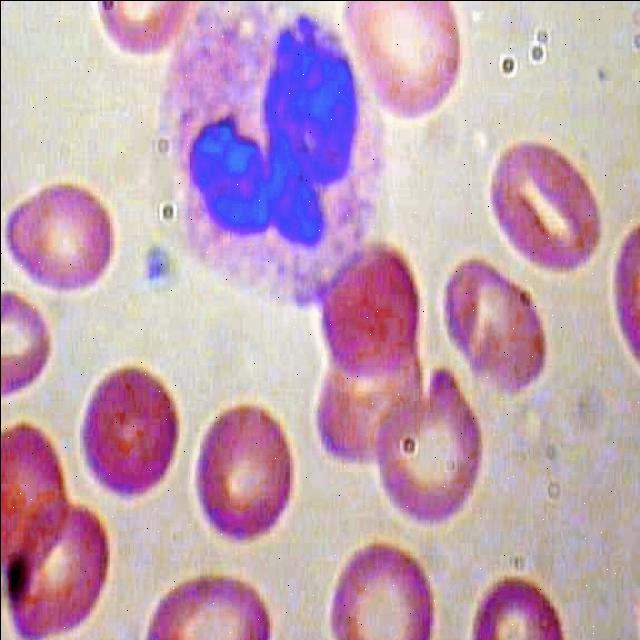RBC: (368, 360, 492, 535), (338, 0, 464, 142), (312, 237, 424, 394), (190, 397, 302, 553), (75, 351, 186, 507), (0, 496, 119, 640), (491, 130, 609, 272), (439, 258, 549, 398), (0, 179, 120, 302), (0, 422, 77, 579), (322, 538, 440, 640), (134, 570, 274, 640), (464, 570, 574, 640), (0, 294, 56, 416)
WBC: (133, 1, 390, 312)
